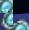mirror: (13, 13, 29, 30), (0, 13, 13, 30), (0, 0, 13, 13)
